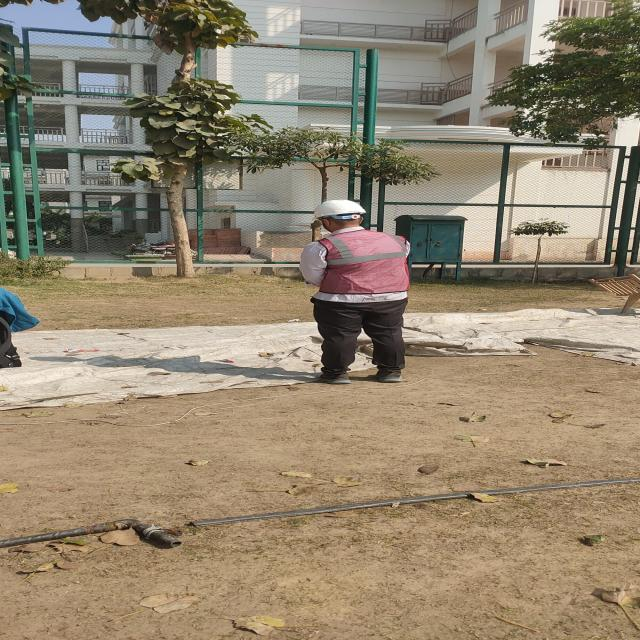safe: (301, 200, 411, 382)
